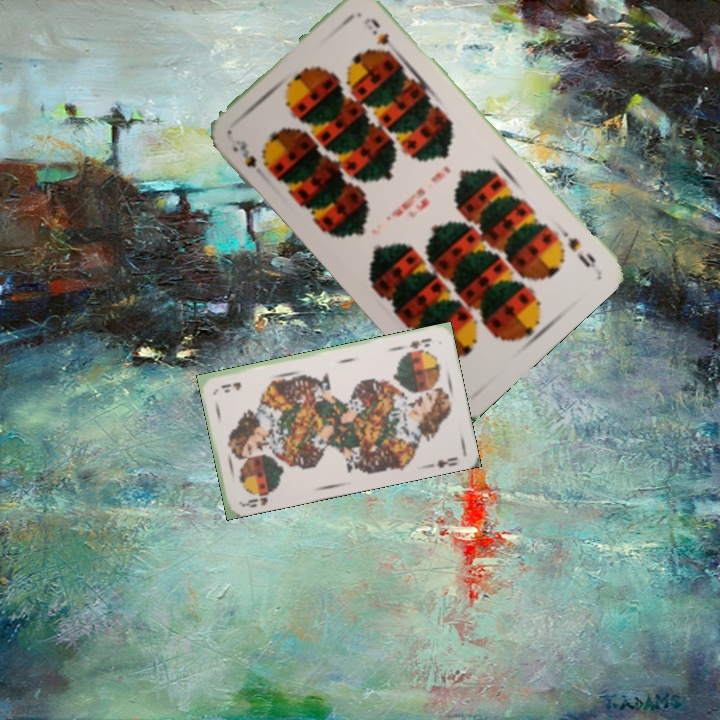S9: (563, 233, 599, 271), (228, 135, 259, 171)
SO: (238, 485, 277, 510), (406, 334, 433, 351)
